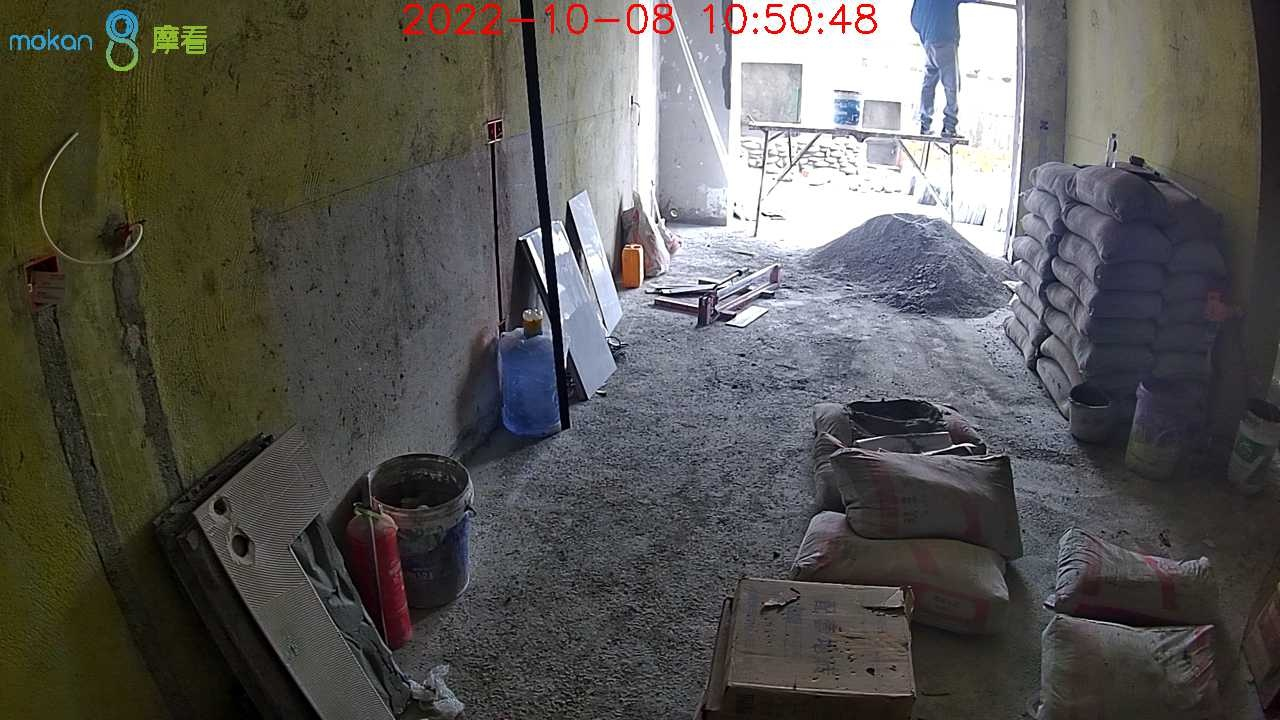people: (912, 9, 966, 145)
window: (739, 5, 1016, 220)
